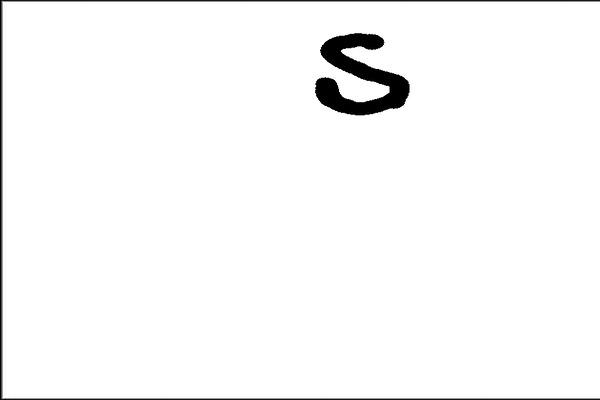S: (304, 26, 420, 124)
